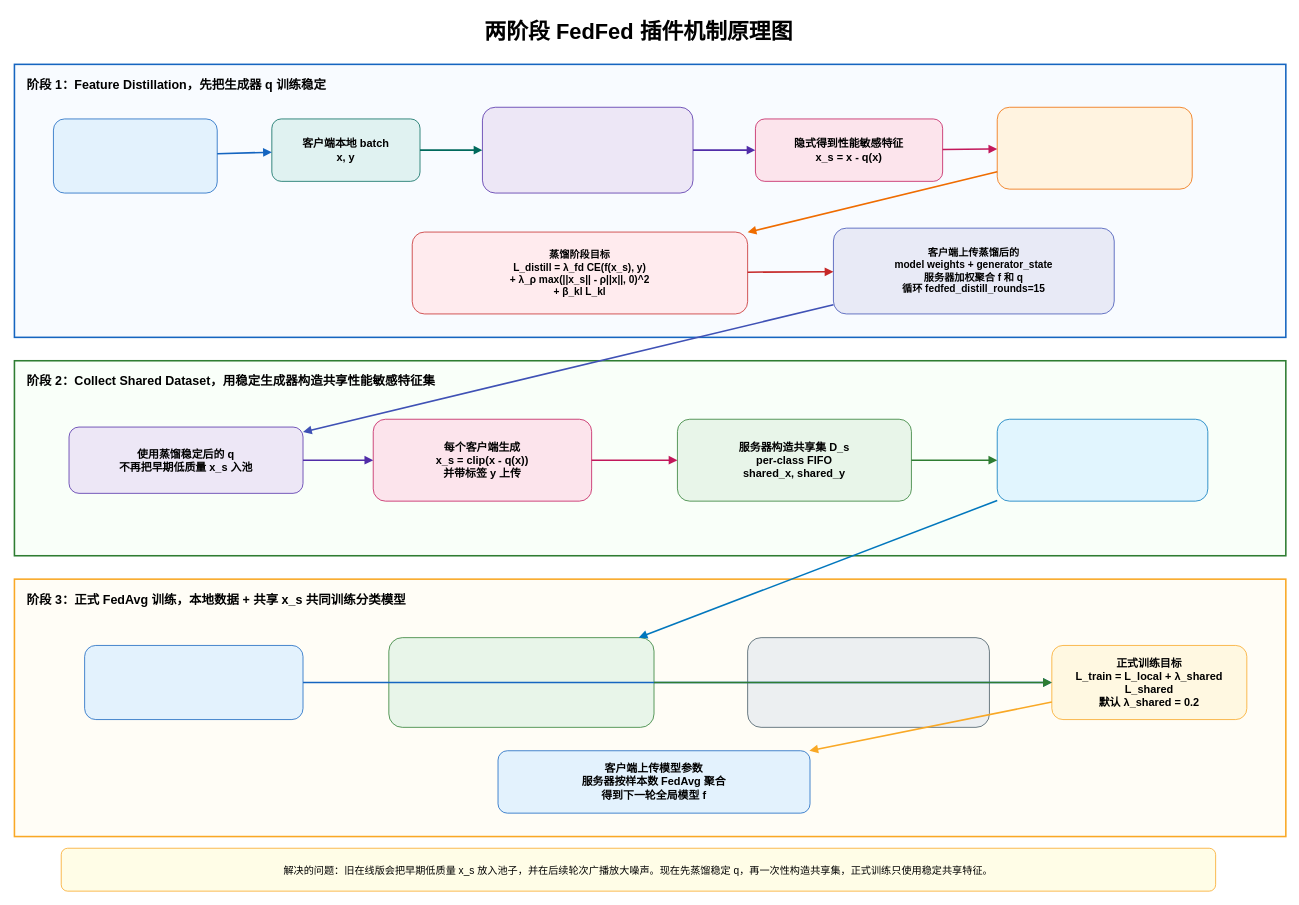
Image size: 1299x905. Some labels were removed from this diagram. Here are the shapes that lost their labels. From the top down, the centre of each, then its label:
At (x=135, y=155): "服务器广播 全局分类器 f_t 全局生成器 q_t".
At (x=587, y=149): "β-VAE 生成器 q(x) 显式生成性能鲁棒部分 x_r = q(x)".
At (x=1094, y=147): "ρ 范数约束 / 裁剪 ||x_s|| ≤ ρ ||x|| 默认 ρ = 0.3".
At (x=1102, y=459): "广播共享特征集 给后续正式训练客户端 作为额外训练数据".
At (x=193, y=682): "本地真实数据路径 pred = f(x) L_local = CE(f(x), y)".
At (x=521, y=682): "共享性能敏感特征路径 sample shared_x_s, shared_y L_shared = CE(f(shared_x_s), shared_y)".
At (x=868, y=682): "默认关闭正式阶段在线蒸馏 fedfed_formal_online_distill=false 避免 q、池子、分类器互相干扰".
